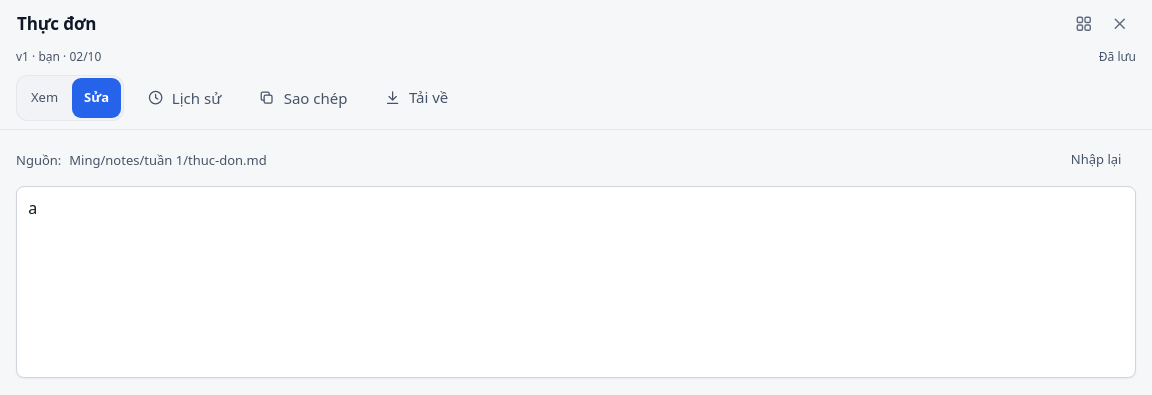
what a re-import said, once the canvas has a newer version › is taken back when an agent writes over the version the file became
Click the button "Nhập lại" at (1096, 160), box [1056,142,1136,178]
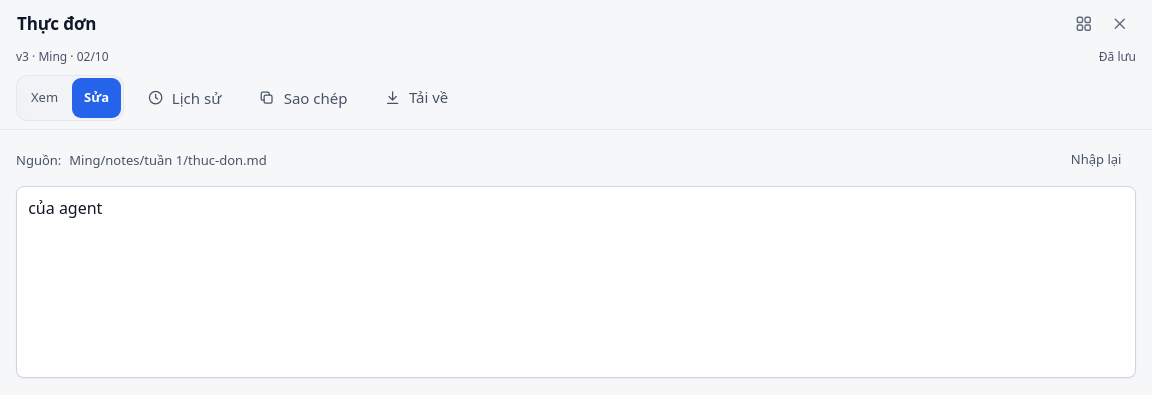
Check: the text with class "canvas-version" shows "v3 · Ming ·", box [16,48,109,65]
